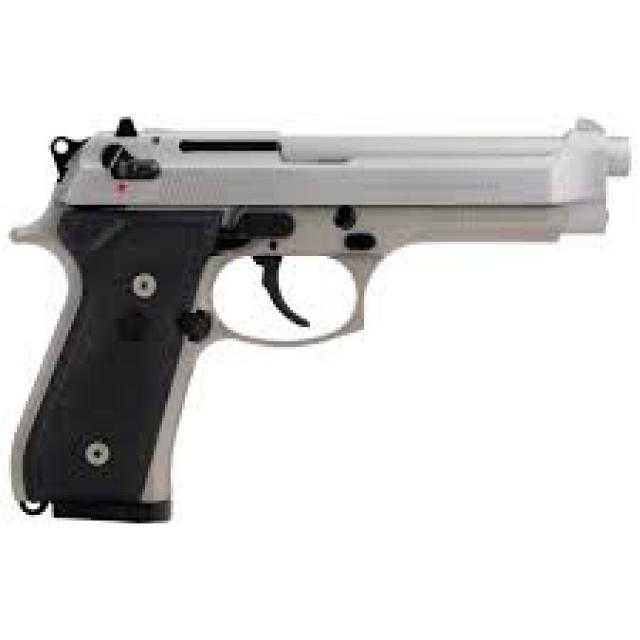pistol: (1, 110, 640, 533)
